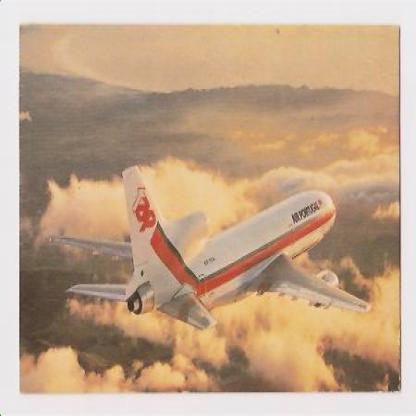aeroplane: (45, 166, 371, 328)
